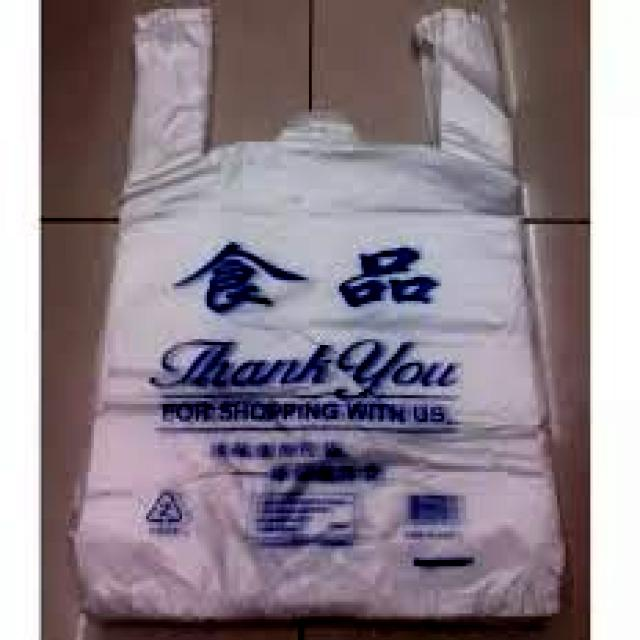Plastic: (68, 0, 572, 622)
